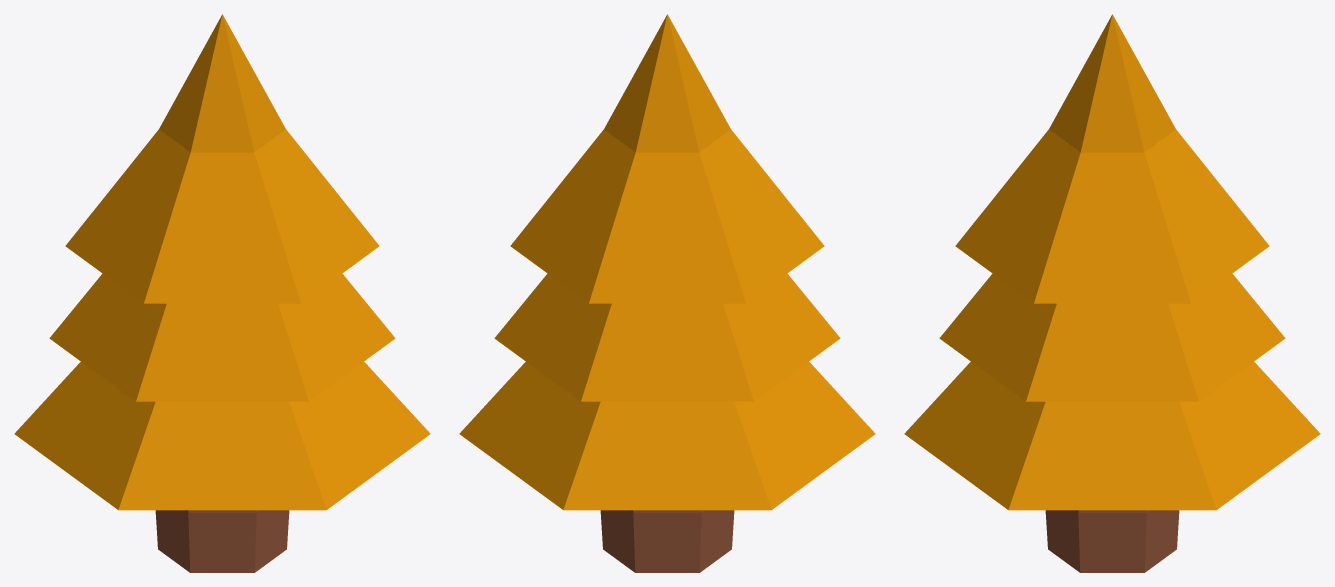
Rendered from tree_orange.glb.
The picture shows the model from 3 angles, left to right: view 1: azimuth 30°, elevation 25°; view 2: azimuth 150°, elevation 25°; view 3: azimuth 270°, elevation 25°; orthographic projection.
Parts seen in each view (by area): view 1: treetop_b_orange, trunk_b_orange; view 2: treetop_b_orange, trunk_b_orange; view 3: treetop_b_orange, trunk_b_orange.
Boxes of the visible parts, x1,y1,x2,y2 form: treetop_b_orange: [14, 14, 430, 510]; trunk_b_orange: [155, 510, 289, 572]; treetop_b_orange: [459, 14, 875, 510]; trunk_b_orange: [600, 510, 734, 572]; treetop_b_orange: [904, 14, 1320, 510]; trunk_b_orange: [1045, 510, 1179, 572].
Size of the model in its own units: 5.6 by 9.16 by 6.46.
